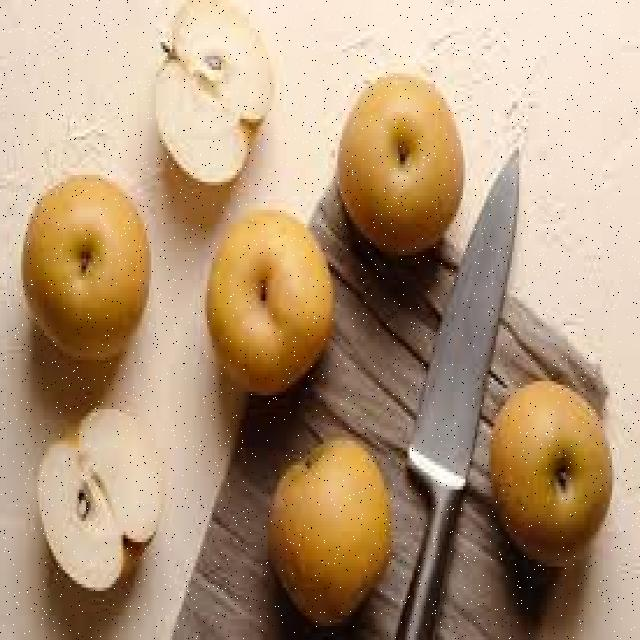Apple: (31, 407, 166, 591), (339, 64, 462, 260), (18, 176, 150, 356), (148, 1, 280, 180), (204, 203, 332, 387), (265, 442, 393, 620), (491, 380, 616, 562)
